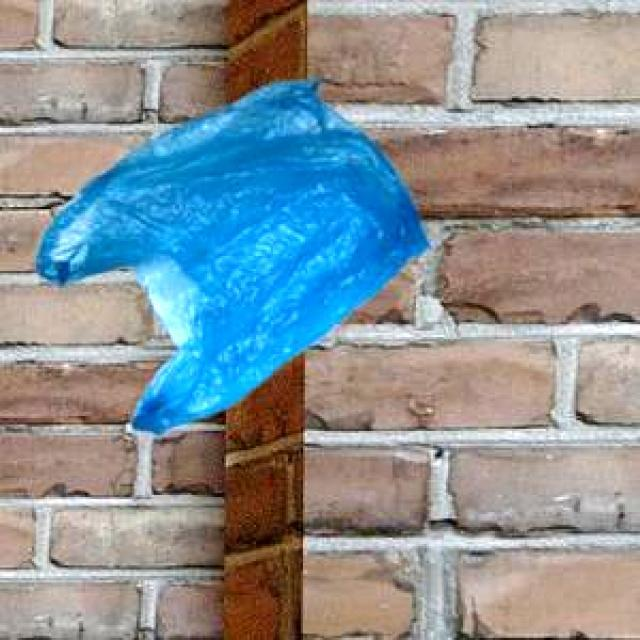Plastic_Bag: (35, 78, 428, 432)
